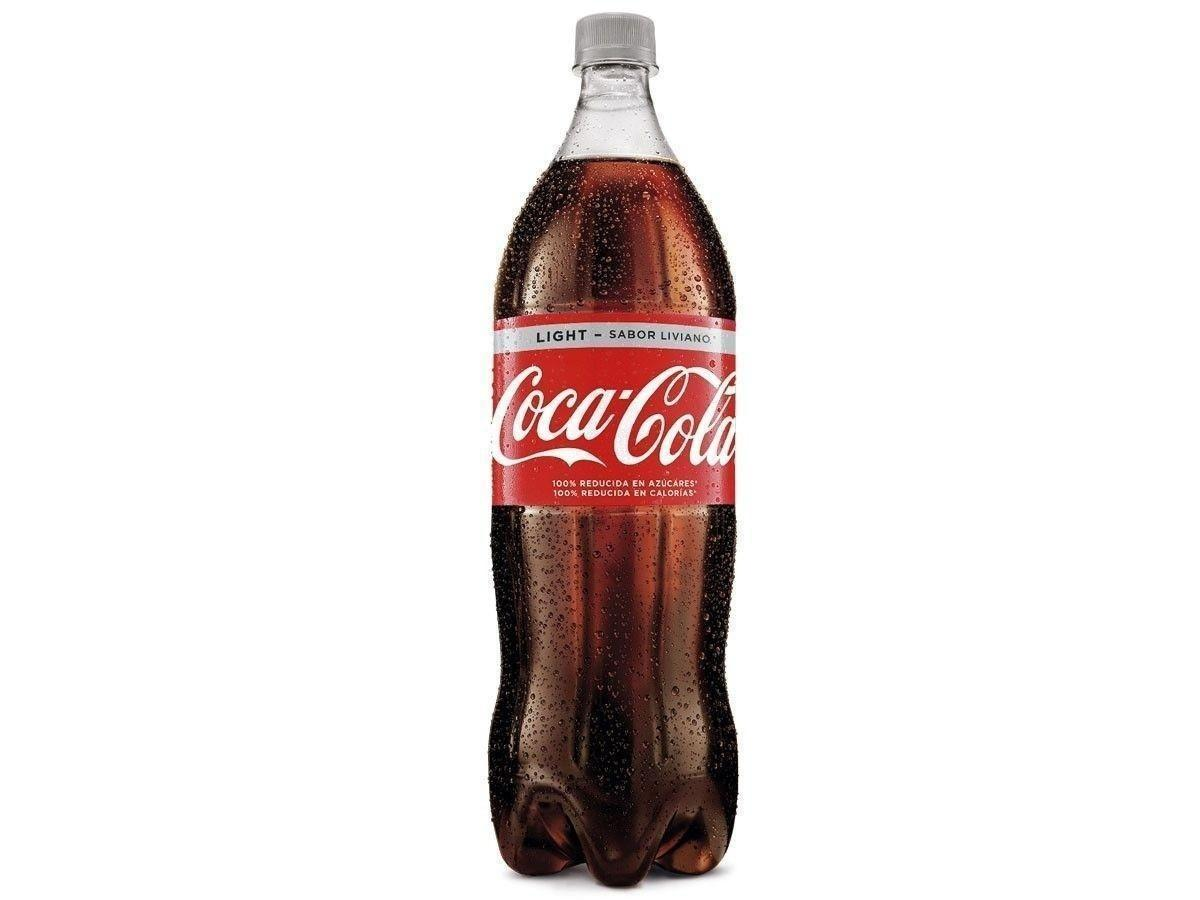bottle-plastic: (476, 4, 750, 892)
